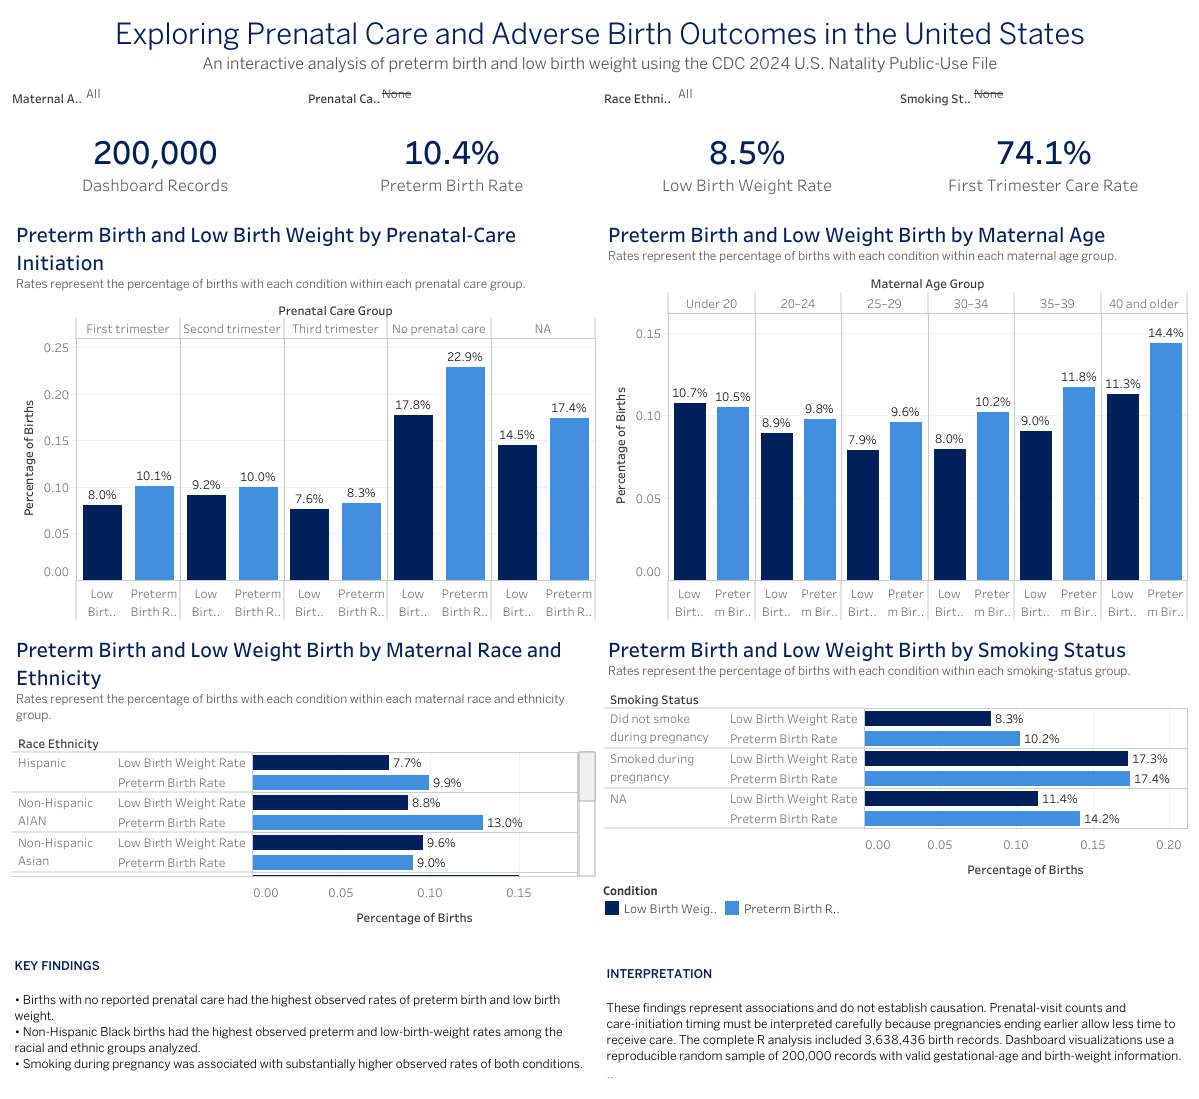

What the dashboard file says about the page in this screenshot:
{"tool":"tableau","page":{"name":"Prenatal Care Dashboard","canvas":[1200,1100],"ordinal":0},"visuals":[{"type":"text","box":[8,8,1184,72]},{"type":"filter","title":"Birth Outcomes by Maternal Age","param":"[federated.1gs6inv023quww1fnzo1w02qcqxq].[none:maternal_age_group:nk]","box":[8,80,296,35]},{"type":"filter","title":"Birth Outcomes by Prenatal Care Initiation","param":"[federated.1gs6inv023quww1fnzo1w02qcqxq].[none:prenatal_care_group:nk]","box":[304,80,296,35]},{"type":"filter","title":"Birth Outcomes by Race and Ethnicity ","param":"[federated.1gs6inv023quww1fnzo1w02qcqxq].[none:race_ethnicity:nk]","box":[600,80,296,35]},{"type":"filter","title":"Birth Outcomes by Smoking Status","param":"[federated.1gs6inv023quww1fnzo1w02qcqxq].[none:smoking_status:nk]","box":[896,80,296,35]},{"type":"worksheet","title":"KPI - Records","mark":"Automatic","box":[8,115,296,95]},{"type":"worksheet","title":"KPI - Preterm Rate","mark":"Automatic","box":[304,115,296,95]},{"type":"worksheet","title":"KPI - Low Birth Weight Rate","mark":"Automatic","box":[600,115,296,95]},{"type":"worksheet","title":"KPI - First Trimester Care","mark":"Automatic","box":[896,115,296,95]},{"type":"worksheet","title":"Birth Outcomes by Prenatal Care Initiation","mark":"Bar","cols":["prenatal_care_group"],"box":[8,210,592,415]},{"type":"worksheet","title":"Birth Outcomes by Maternal Age","mark":"Bar","cols":["maternal_age_group"],"box":[600,210,592,415]},{"type":"worksheet","title":"Birth Outcomes by Race and Ethnicity ","mark":"Bar","rows":["race_ethnicity"],"box":[8,625,591.6,313]},{"type":"worksheet","title":"Birth Outcomes by Smoking Status","mark":"Bar","rows":["smoking_status"],"box":[599.6,625,592.4,313]},{"type":"legend","title":"Birth Outcomes by Prenatal Care Initiation","param":"[federated.1gs6inv023quww1fnzo1w02qcqxq].[:Measure Names]","box":[602,879,597,58]},{"type":"text","box":[8,938,592,154]},{"type":"text","box":[600,938,592,154]}]}

Visuals, with their boxes in screenshot pixels (x1, y1, x2, y2), scaled from the page's 1200x1100 canvas onto the 1199x1099 screenshot:
text: {"left": 8, "top": 8, "right": 1191, "bottom": 80}
"Birth Outcomes by Maternal Age" filter: {"left": 8, "top": 80, "right": 304, "bottom": 115}
"Birth Outcomes by Prenatal Care Initiation" filter: {"left": 304, "top": 80, "right": 600, "bottom": 115}
"Birth Outcomes by Race and Ethnicity " filter: {"left": 600, "top": 80, "right": 895, "bottom": 115}
"Birth Outcomes by Smoking Status" filter: {"left": 895, "top": 80, "right": 1191, "bottom": 115}
"KPI - Records" worksheet: {"left": 8, "top": 115, "right": 304, "bottom": 210}
"KPI - Preterm Rate" worksheet: {"left": 304, "top": 115, "right": 600, "bottom": 210}
"KPI - Low Birth Weight Rate" worksheet: {"left": 600, "top": 115, "right": 895, "bottom": 210}
"KPI - First Trimester Care" worksheet: {"left": 895, "top": 115, "right": 1191, "bottom": 210}
"Birth Outcomes by Prenatal Care Initiation" worksheet (Bar marks): {"left": 8, "top": 210, "right": 600, "bottom": 624}
"Birth Outcomes by Maternal Age" worksheet (Bar marks): {"left": 600, "top": 210, "right": 1191, "bottom": 624}
"Birth Outcomes by Race and Ethnicity " worksheet (Bar marks): {"left": 8, "top": 624, "right": 599, "bottom": 937}
"Birth Outcomes by Smoking Status" worksheet (Bar marks): {"left": 599, "top": 624, "right": 1191, "bottom": 937}
"Birth Outcomes by Prenatal Care Initiation" legend: {"left": 601, "top": 878, "right": 1198, "bottom": 936}
text: {"left": 8, "top": 937, "right": 600, "bottom": 1091}
text: {"left": 600, "top": 937, "right": 1191, "bottom": 1091}
